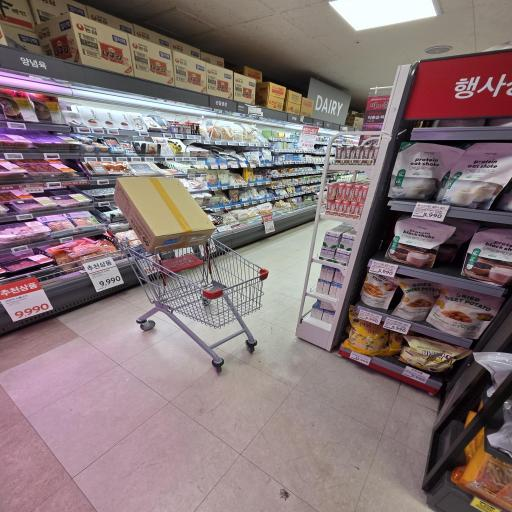fully_cart: (106, 158, 289, 374)
